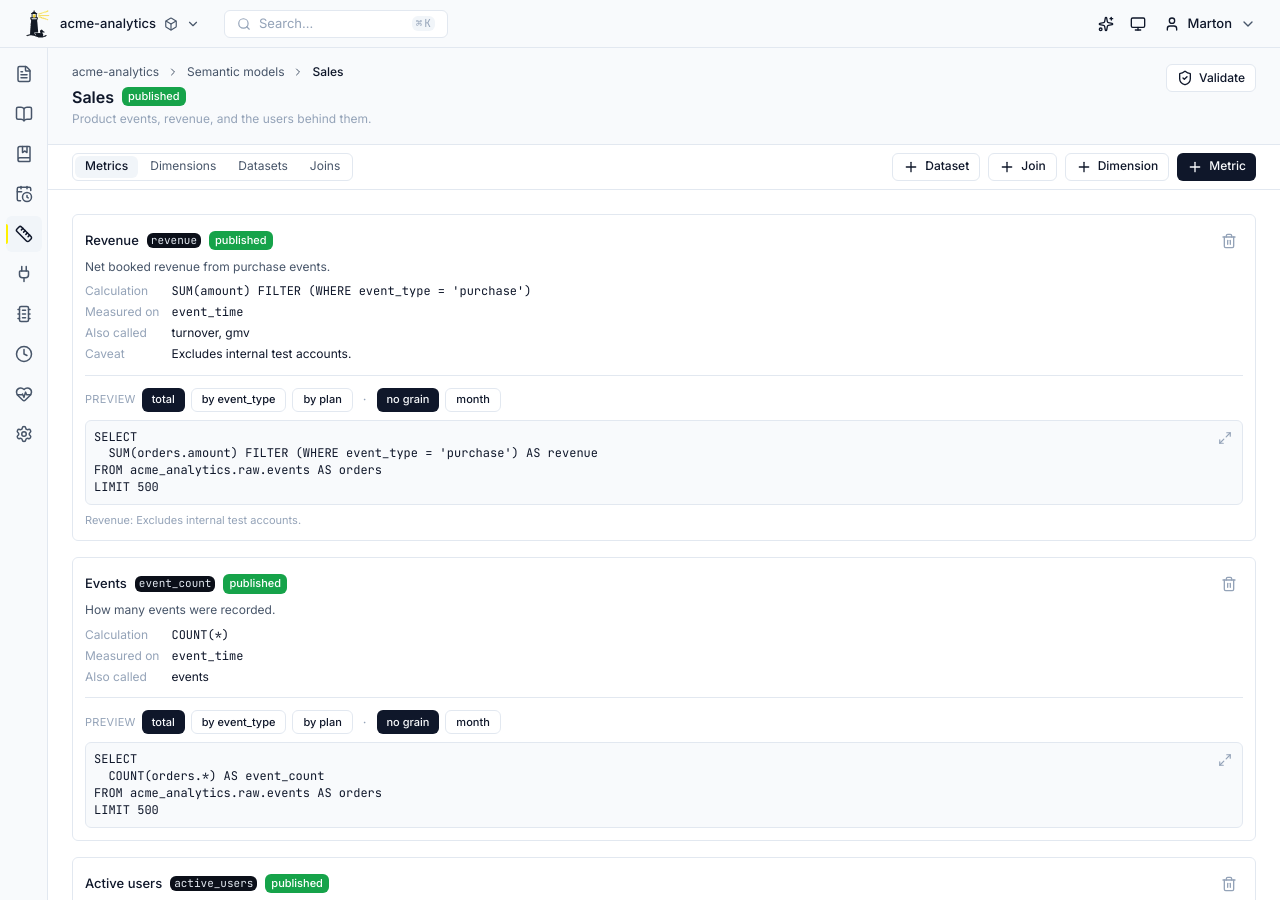
authoring definitions › creates a metric and reports it as a draft
Click the button "Metric": coordinates (1217, 167) [1177,153,1256,181]
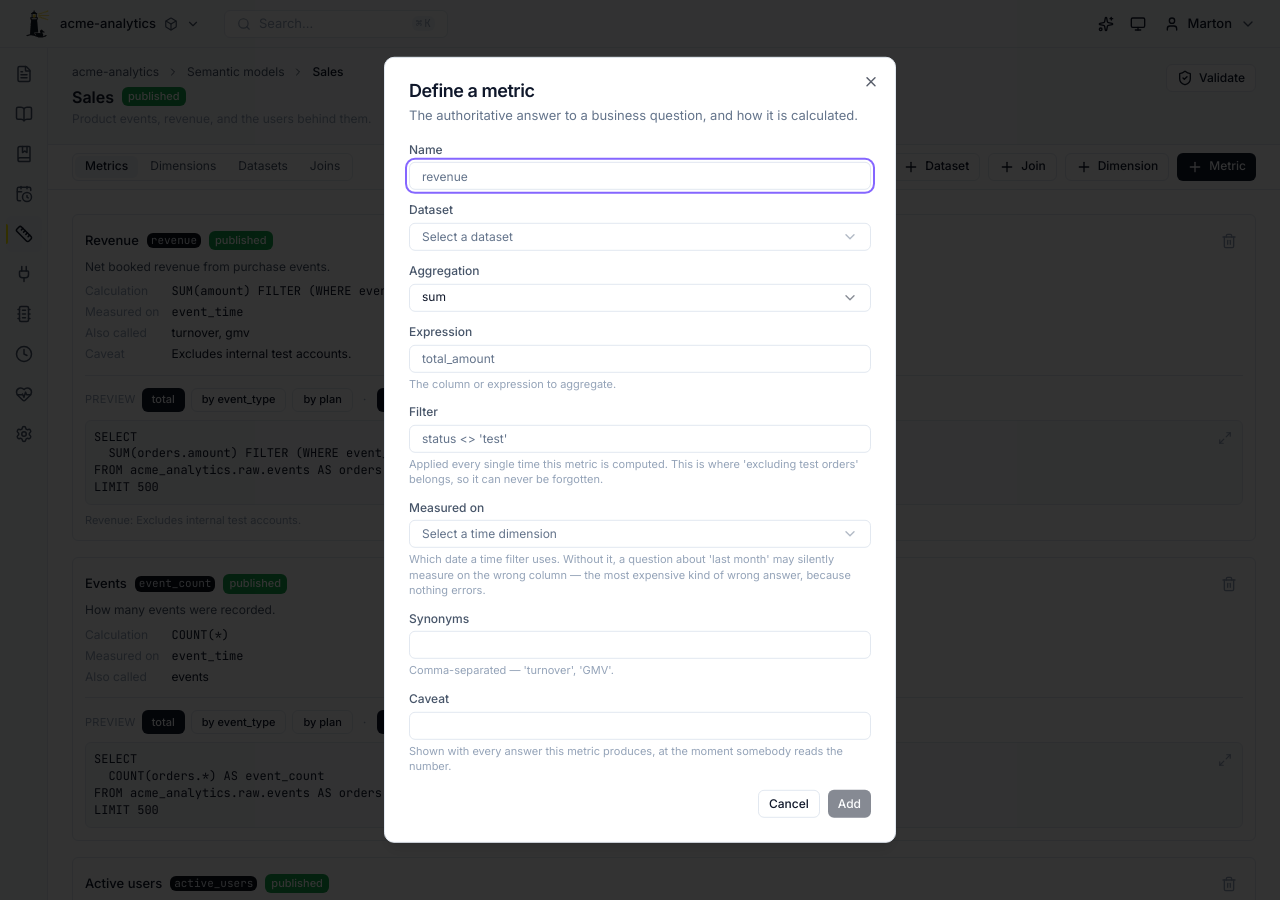
In the field labelled "Name": coordinates (640, 176) [409,162,871,190], type "refunds"
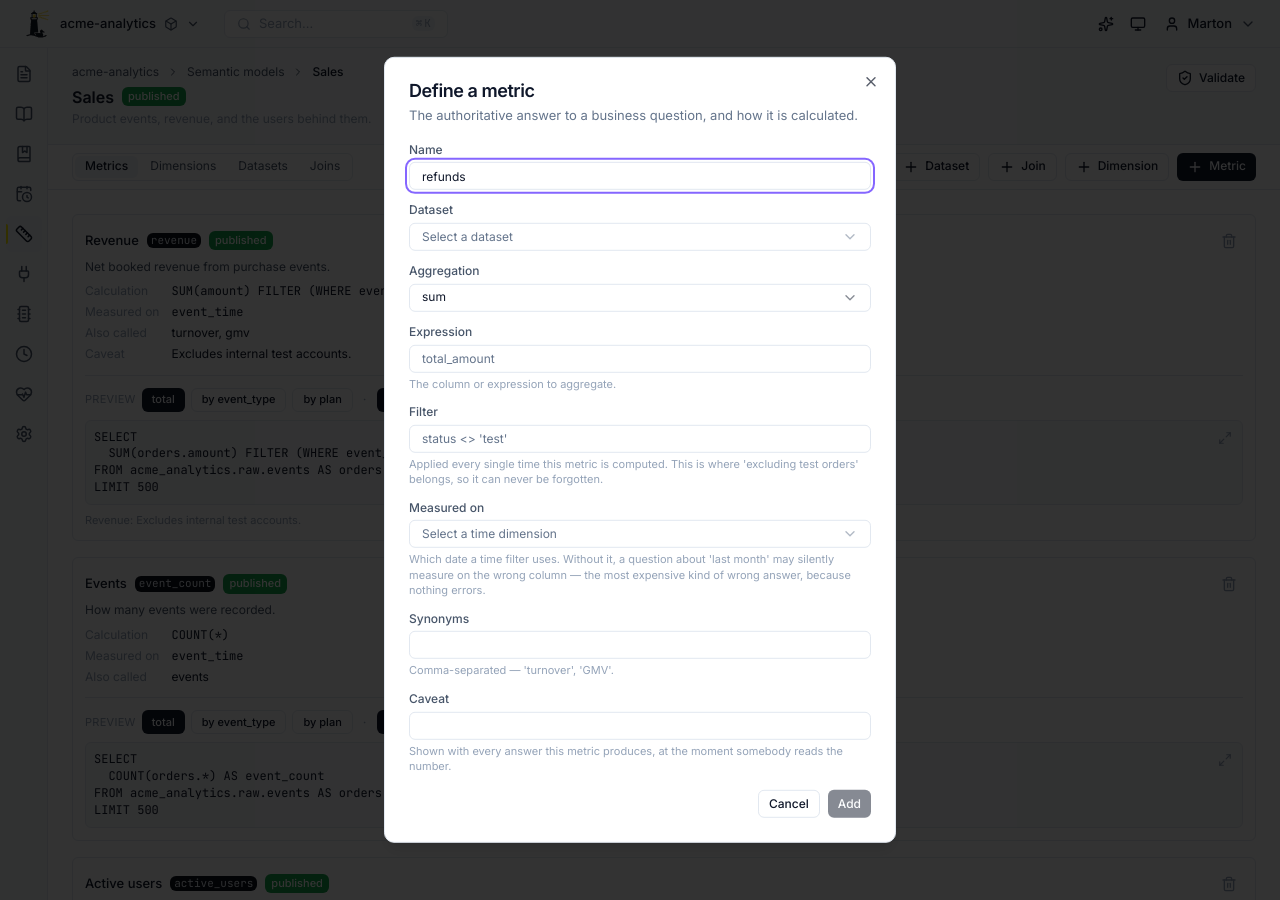
Click the dropdown labelled "dataset": coordinates (467, 236) [409,223,871,251]
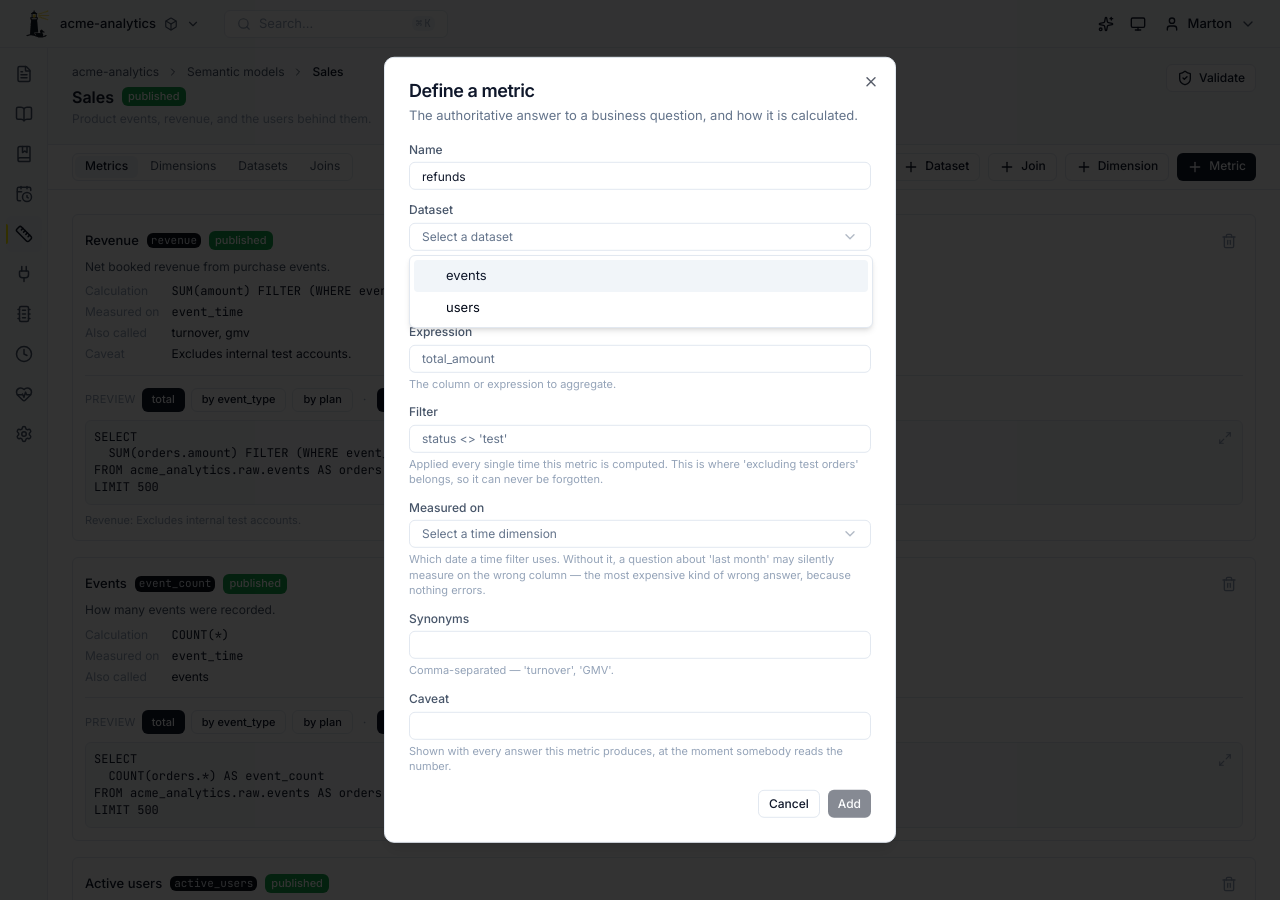
Click the option "events": coordinates (466, 275) [414,260,868,292]
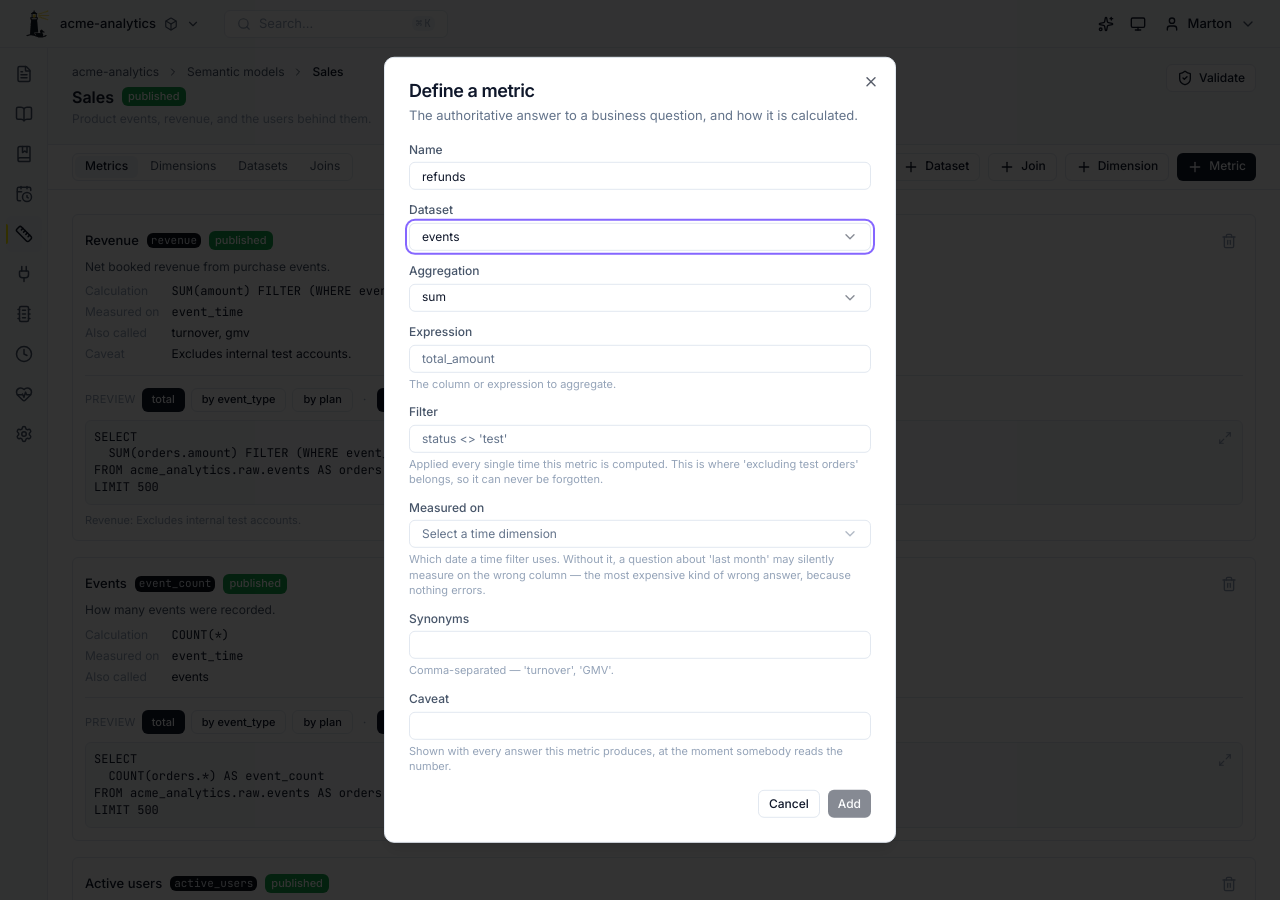
In the field labelled "Expression": coordinates (640, 358) [409,344,871,372], type "refund_amount"
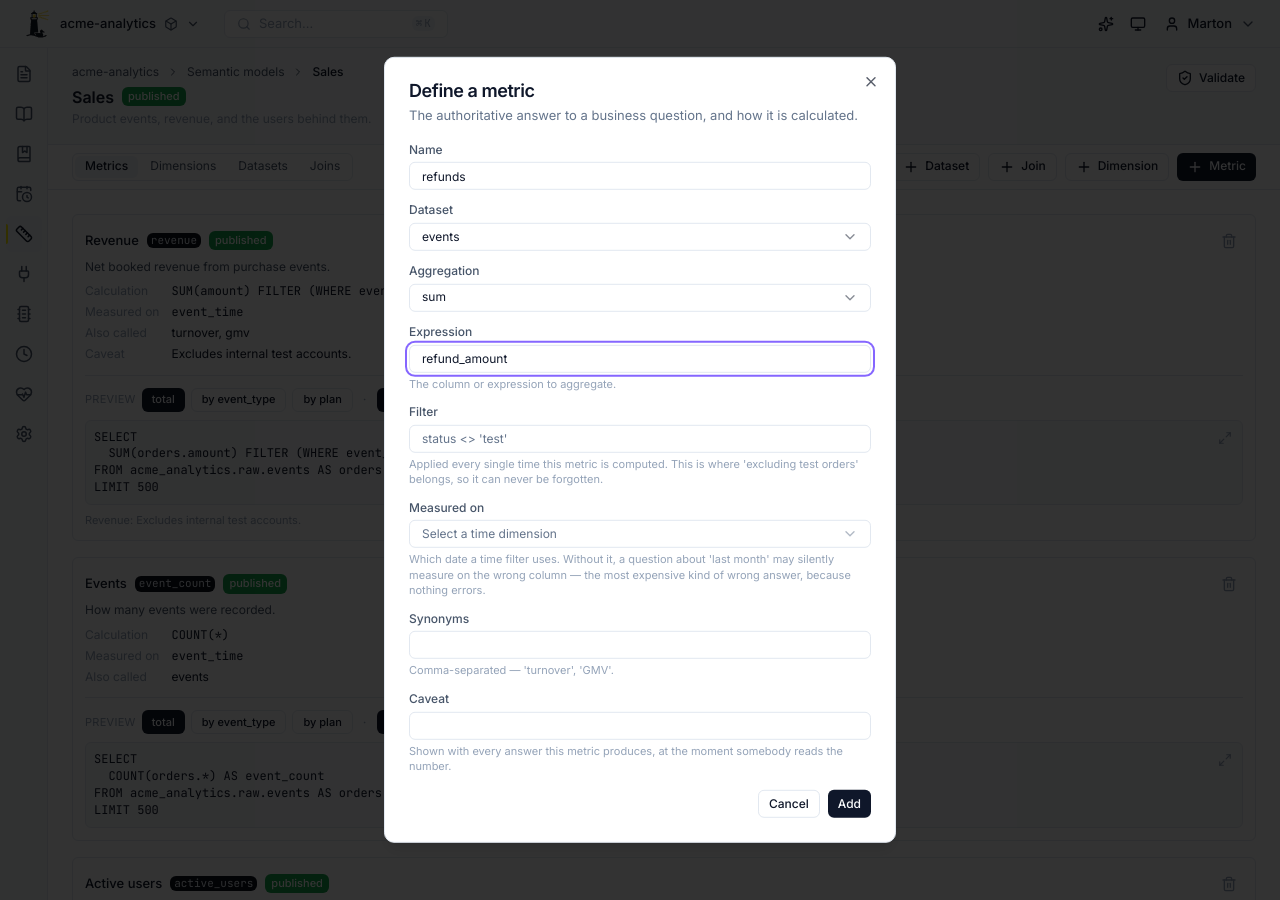
Click the button "Add": coordinates (849, 804) [828,790,871,818]
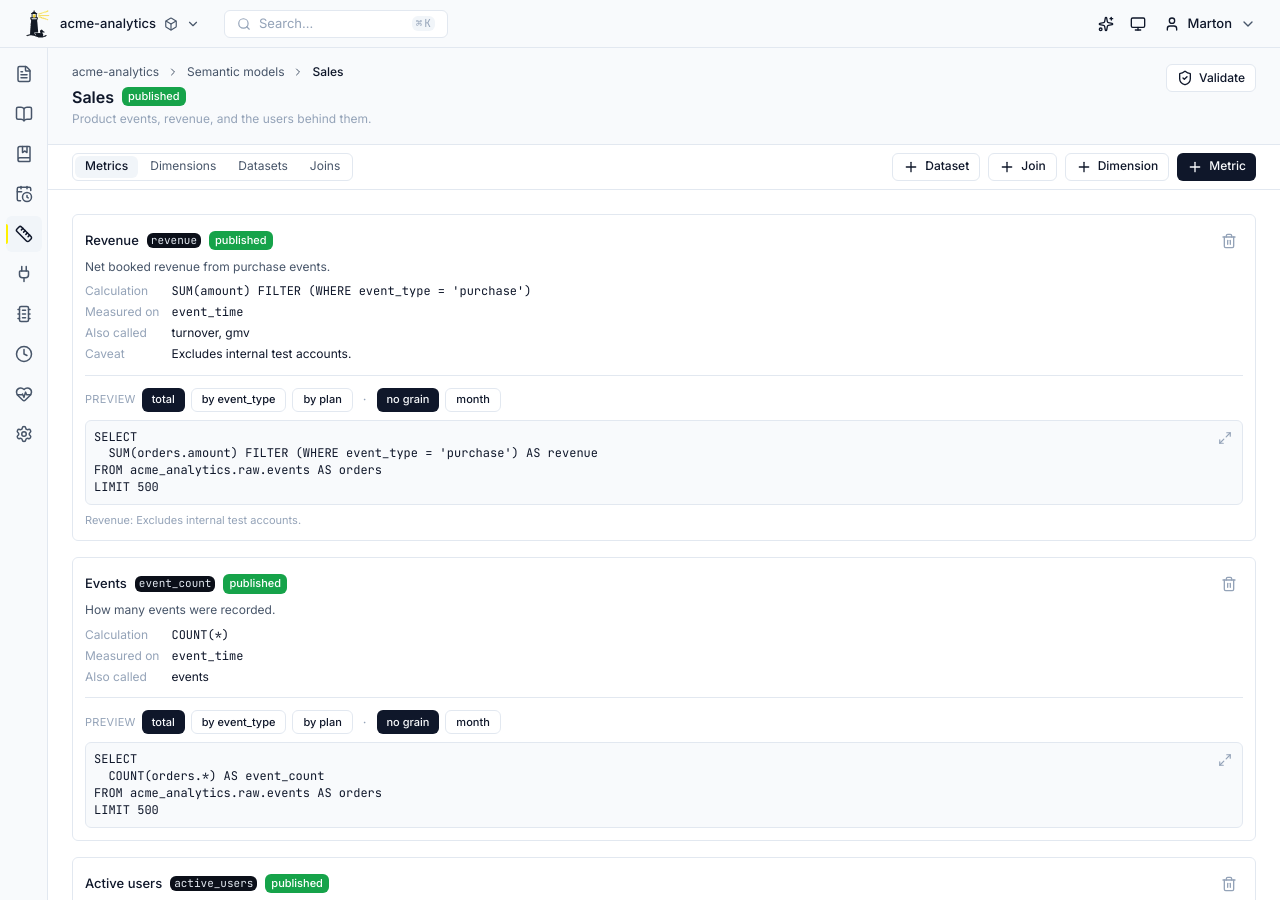
Now the dialog is gone
